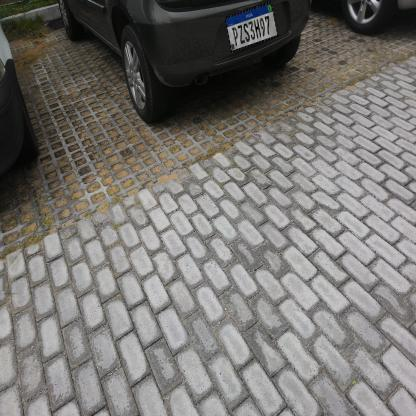PlacaM: (224, 1, 278, 53)
